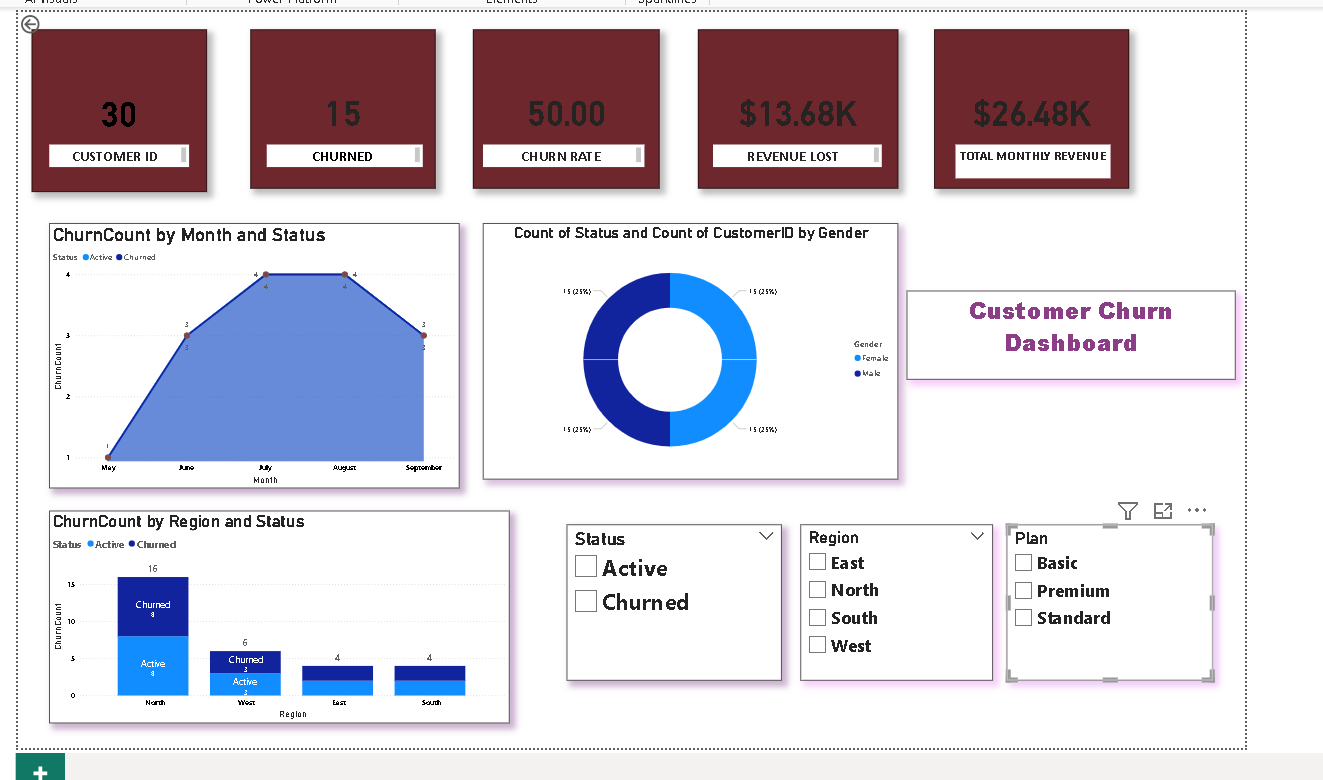

What the dashboard file says about the page in this screenshot:
{"tool":"powerbi","page":{"name":"Page 1","canvas":[2000,1200],"ordinal":0},"visuals":[{"type":"card","fields":{"Values":["Count(Sheet1.CustomerID)"]},"box":[22.4,28.5,285.3,264.9],"z":0},{"type":"card","fields":{"Values":["Count(Sheet1.CustomerID)"]},"box":[379.1,28.5,301.6,258.8],"z":1000},{"type":"actionButton","box":[0,0,100,40],"z":2000},{"type":"card","fields":{"Values":["Sheet1.ChurnRate"]},"box":[741.9,28.5,303.7,258.8],"z":3000},{"type":"card","fields":{"Values":["Sheet1.TotalMonthlyRevenue"]},"box":[1493.9,28.5,317.9,258.8],"z":4000},{"type":"card","fields":{"Values":["Sheet1.RevenueLost"]},"box":[1108.7,28.5,326.1,258.8],"z":5000},{"type":"lineChart","fields":{"Category":["Sheet1.ChurnDate.Variation.Date Hierarchy.Month"],"Y":["Sheet1.ChurnCount"],"Series":["Sheet1.Status"]},"box":[51,344.4,668.5,432.1],"z":6000},{"type":"columnChart","fields":{"Category":["Sheet1.Region"],"Y":["Sheet1.ChurnCount"],"Series":["Sheet1.Status"]},"box":[51,813.2,750,346.5],"z":7000},{"type":"donutChart","fields":{"Category":["Sheet1.Gender"],"Y":["CountNonNull(Sheet1.Status)","CountNonNull(Sheet1.CustomerID)"]},"box":[758.2,344.4,676.6,417.8],"z":8000},{"type":"slicer","fields":{"Values":["Sheet1.Plan"]},"box":[1612.1,835.6,336.3,254.8],"z":9000},{"type":"slicer","fields":{"Values":["Sheet1.Region"]},"box":[1275.8,835.6,313.9,254.8],"z":10000},{"type":"slicer","fields":{"Values":["Sheet1.Status"]},"box":[894.7,835.6,350.5,254.8],"z":11000},{"type":"textbox","box":[1449.1,454.5,536,144.7],"z":11001}]}

Visuals, with their boxes in screenshot pixels (x1, y1, x2, y2):
card - Count(Sheet1.CustomerID): 28, 24, 204, 188
card - Count(Sheet1.CustomerID): 248, 24, 434, 184
actionButton: 14, 7, 76, 32
card - Sheet1.ChurnRate: 472, 24, 659, 184
card - Sheet1.TotalMonthlyRevenue: 936, 24, 1132, 184
card - Sheet1.RevenueLost: 698, 24, 899, 184
lineChart - Sheet1.ChurnDate.Variation.Date Hierarchy.Month x Sheet1.ChurnCount: 45, 219, 458, 486
columnChart - Sheet1.Region x Sheet1.ChurnCount: 45, 509, 508, 723
donutChart - Sheet1.Gender x CountNonNull(Sheet1.Status): 482, 219, 899, 477
slicer - Sheet1.Plan: 1009, 523, 1216, 680
slicer - Sheet1.Region: 801, 523, 995, 680
slicer - Sheet1.Status: 566, 523, 782, 680
textbox: 908, 287, 1239, 377
